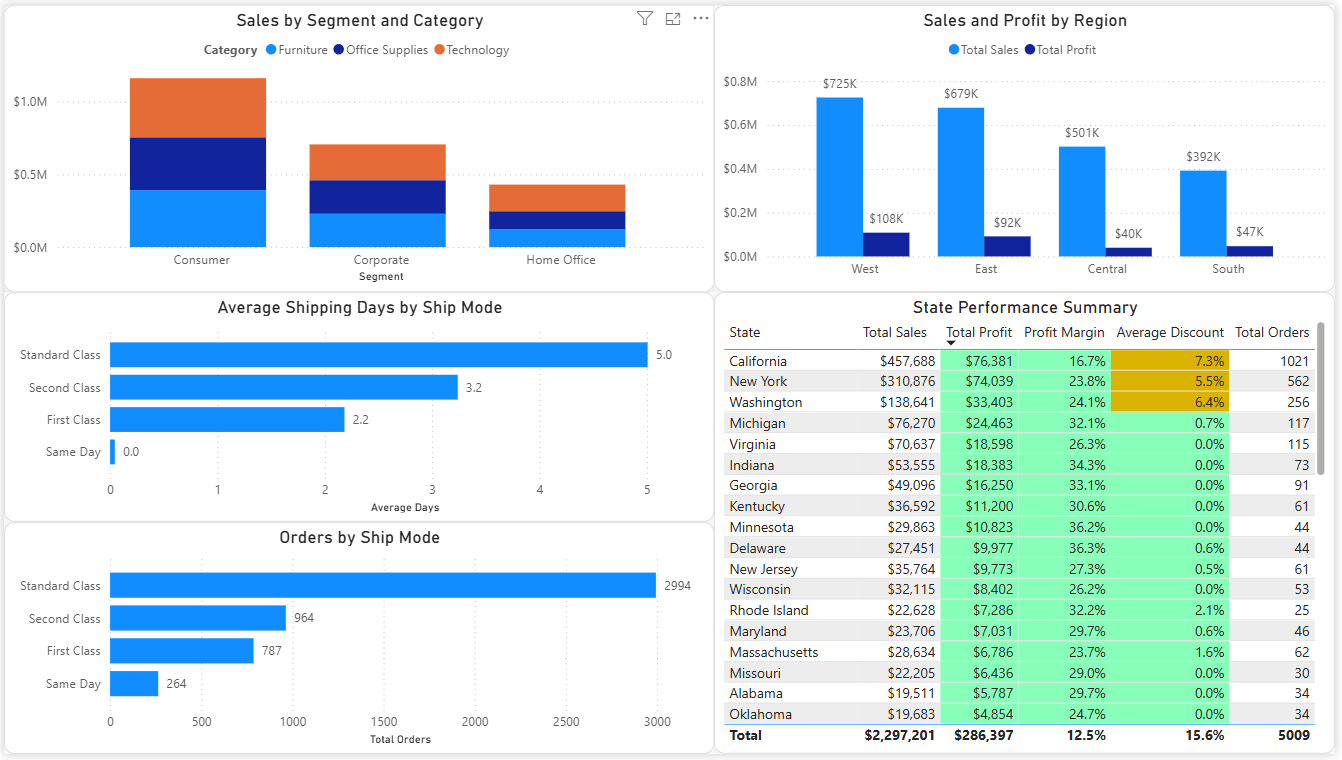

What the dashboard file says about the page in this screenshot:
{"tool":"powerbi","page":{"name":"Regional Performance","canvas":[1280,720],"ordinal":2},"visuals":[{"type":"clusteredColumnChart","title":"Sales and Profit by Region","fields":{"Category":["Superstore.Region"],"Y":["Key Measures.Total Sales","Key Measures.Total Profit"]},"box":[682.8,0,597,275.8],"z":5000},{"type":"columnChart","title":"Sales by Segment and Category","fields":{"Category":["Superstore.Segment"],"Y":["Key Measures.Total Sales"],"Series":["Superstore.Category"]},"box":[0,0,682.8,275.8],"z":6000},{"type":"tableEx","title":"State Performance Summary","fields":{"Values":["Superstore.State","Key Measures.Total Sales","Key Measures.Total Profit","Key Measures.Profit Margin","Key Measures.Average Discount","Key Measures.Total Orders"]},"box":[682.8,275.8,597,444.4],"z":7000},{"type":"clusteredBarChart","title":"Average Shipping Days by Ship Mode","fields":{"Category":["Superstore.Ship Mode"],"Y":["Key Measures.Average Shipping Days"]},"box":[0,275.8,682.8,221.2],"z":8000},{"type":"clusteredBarChart","title":"Orders by Ship Mode","fields":{"Category":["Superstore.Ship Mode"],"Y":["Key Measures.Total Orders"]},"box":[0,497,682.8,223.2],"z":9000}]}

Visuals, with their boxes in screenshot pixels (x1, y1, x2, y2), scaled from the page's 1280x720 canvas onto the 1342x760 screenshot:
"Sales and Profit by Region" clusteredColumnChart: [716, 0, 1341, 291]
"Sales by Segment and Category" columnChart: [0, 0, 716, 291]
"State Performance Summary" tableEx: [716, 291, 1341, 759]
"Average Shipping Days by Ship Mode" clusteredBarChart: [0, 291, 716, 525]
"Orders by Ship Mode" clusteredBarChart: [0, 525, 716, 759]
